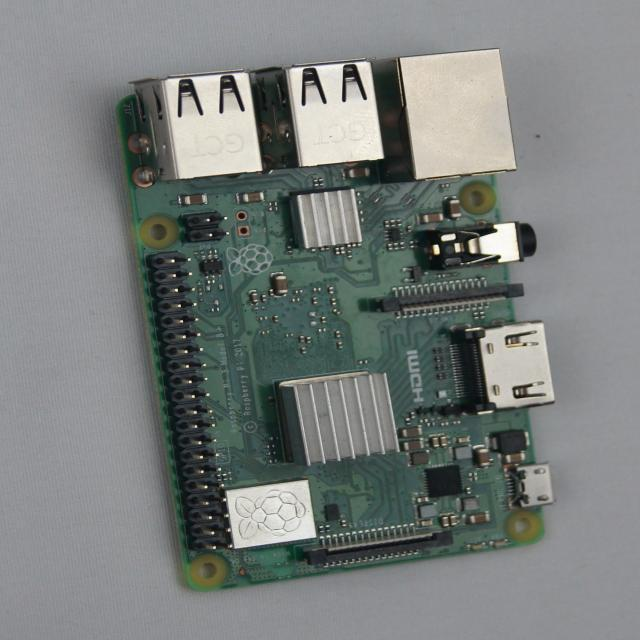Raspberry Pi 3 B-: (122, 50, 555, 589)
